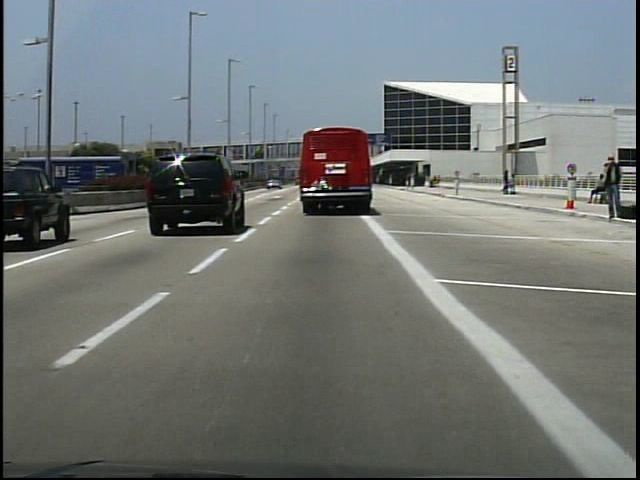person: (598, 150, 626, 223), (583, 169, 608, 206)
